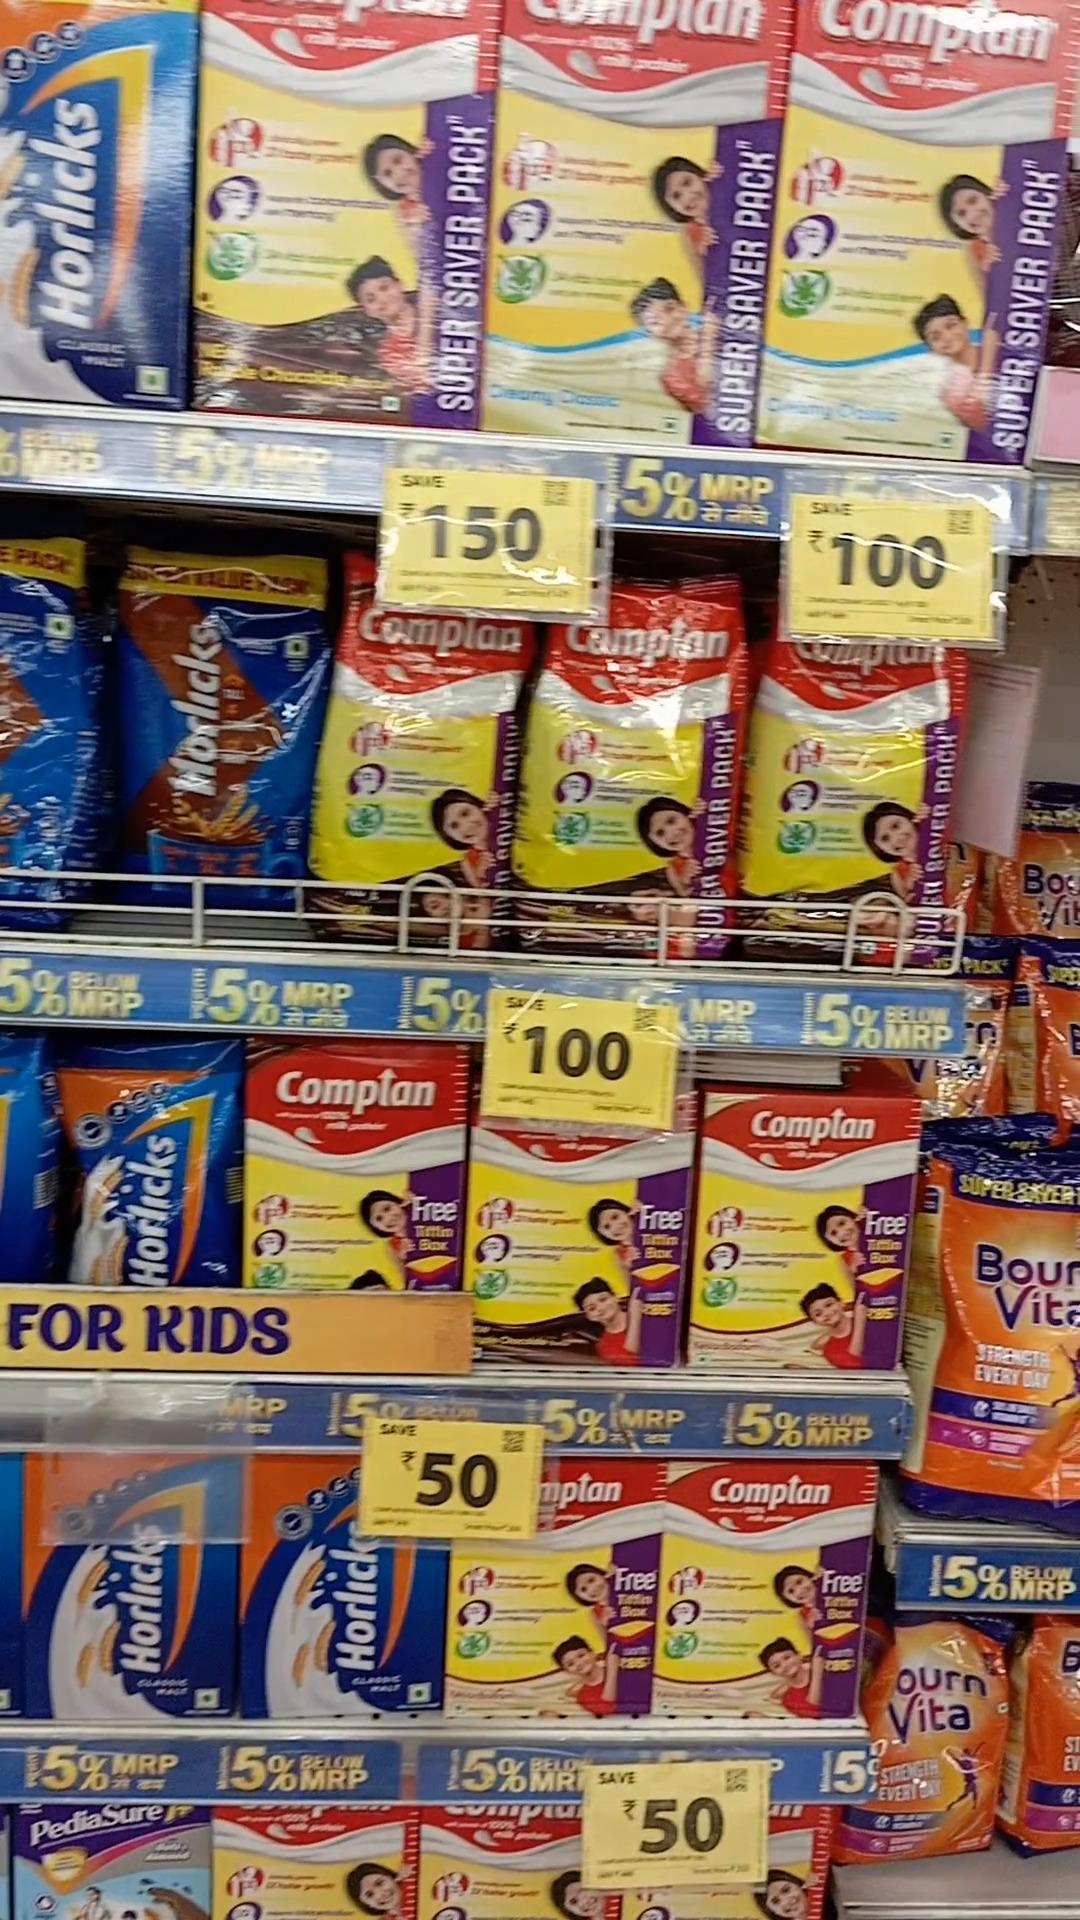BOURN_VITA_750_G_POUCH: (877, 1618, 1010, 1867)
COMPLAN_CHOCOLATE_1_KG_PACK: (203, 0, 484, 423)
COMPLAN_CHOCOLATE_500_GMS_PACK: (244, 1040, 462, 1291), (469, 1118, 682, 1369)
COMPLAN_KESAR_BADAM_500_GMS_PACK: (695, 1092, 905, 1378), (663, 1464, 862, 1734), (454, 1470, 651, 1716)
COMPLAN_RC_POUCH_700_GMS_12: (527, 585, 728, 956), (752, 636, 956, 965), (328, 584, 513, 940)
HORLICK_CHOCOLATE_750_G_POUCH: (120, 551, 305, 913)
HORLICK_CLASSIC_MALT_500_G_PACK: (30, 1461, 229, 1721), (243, 1464, 436, 1716)
HORLICK_CLASSIC_MALT_750_G_POUCH: (69, 1046, 236, 1290)
